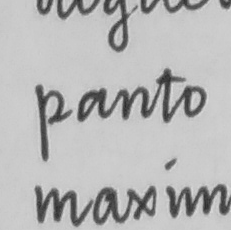a: (75, 85, 111, 123)
n: (117, 84, 151, 123)
o: (181, 83, 209, 119)
p: (33, 81, 71, 164)
t: (153, 65, 180, 125)
